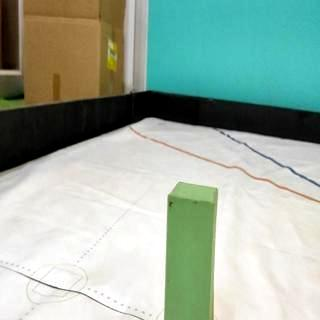greenbox: (164, 181, 220, 320)
